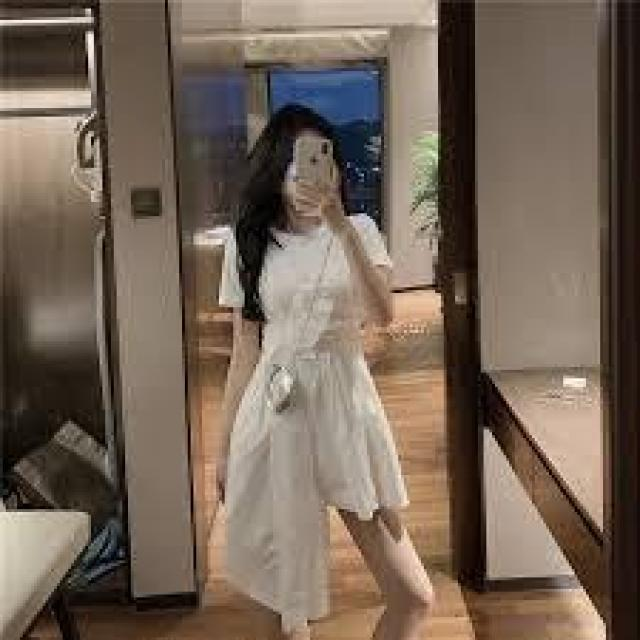Tshirt: (218, 212, 394, 354)
skirt: (216, 344, 418, 626)
